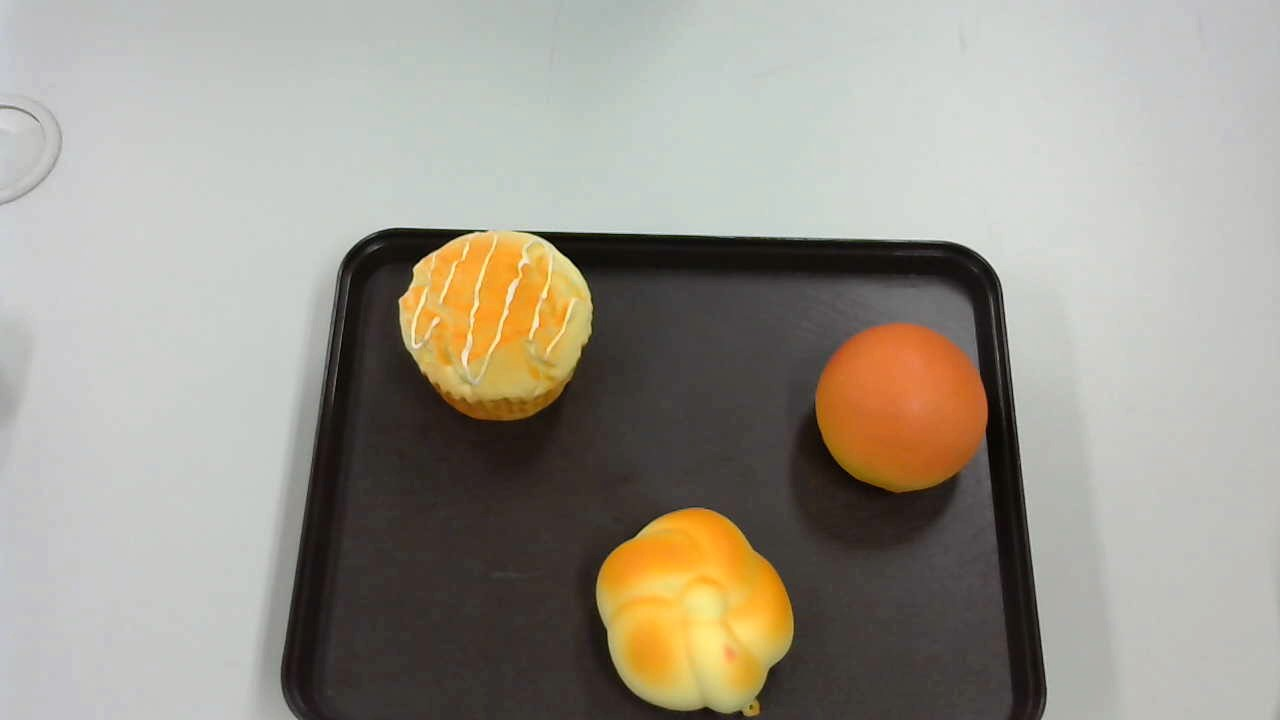bun: (815, 322, 987, 492)
cupcake: (395, 228, 591, 421)
twist bread: (595, 508, 794, 717)
